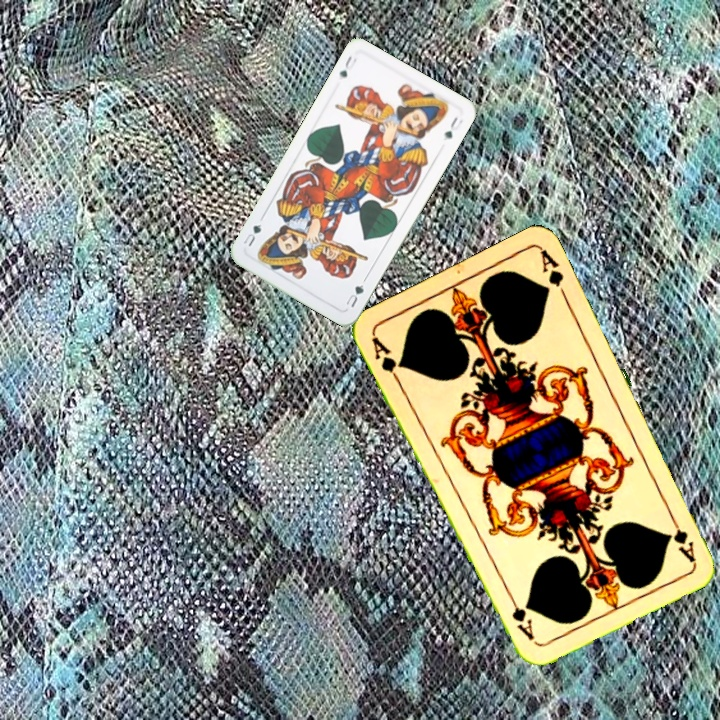GA: (367, 332, 406, 387), (664, 508, 699, 565)
GU: (342, 274, 369, 310), (335, 51, 359, 80)
